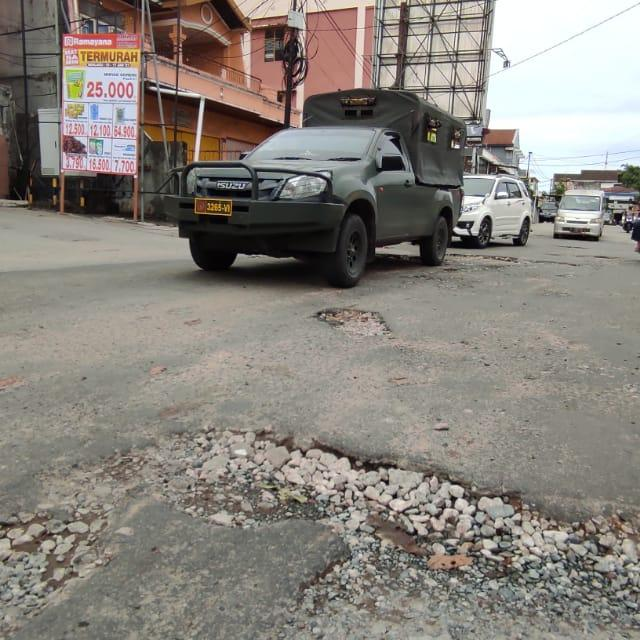lubang_kecil: (138, 389, 640, 640), (0, 476, 130, 640), (302, 298, 405, 352), (453, 248, 520, 268)
